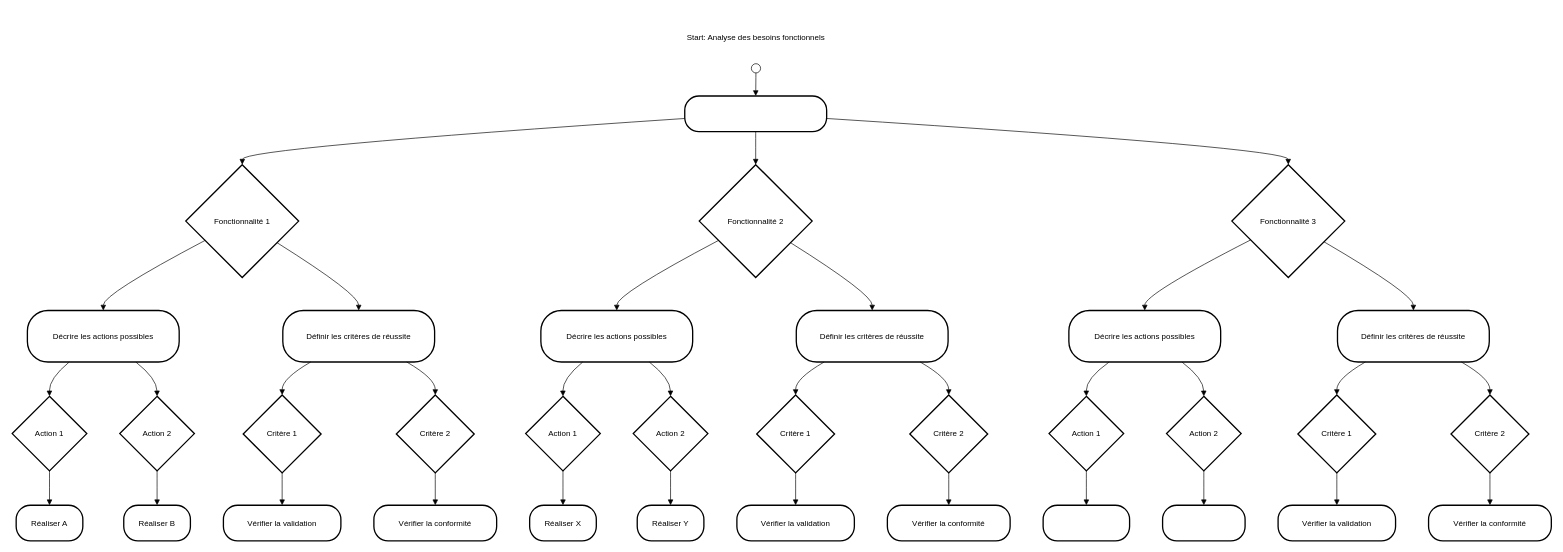
Some shapes in this 1563 by 552 pixel diagram are drawn without their labels. The centre of each missing label's shape, as x and y in pixels:
"Définir les fonctionnalités" goes at (755,113).
"Réaliser Alpha" goes at (1086,522).
"Réaliser Beta" goes at (1203,522).
